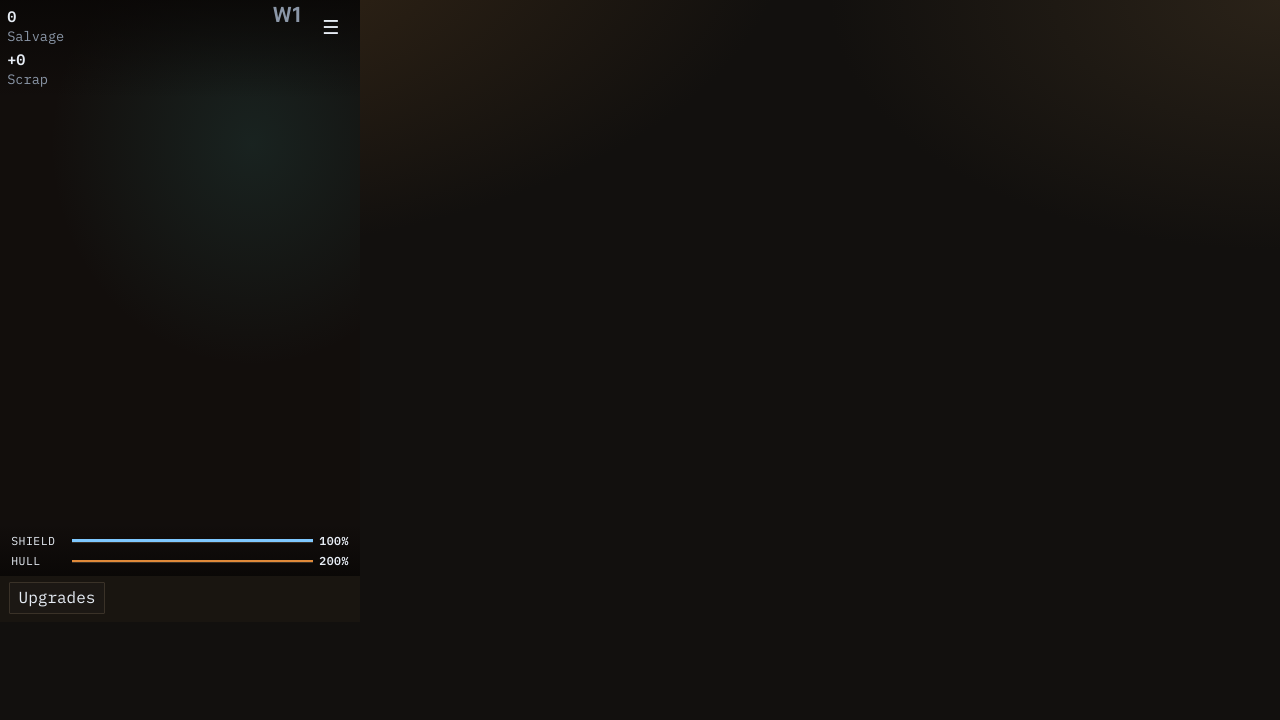
Scenario: Leave Sortie UI › keeps Withdraw disabled during an active Challenge
This screenshot has width=1280, height=720.
Click the button "☰": (331, 27) [309,5,353,49]
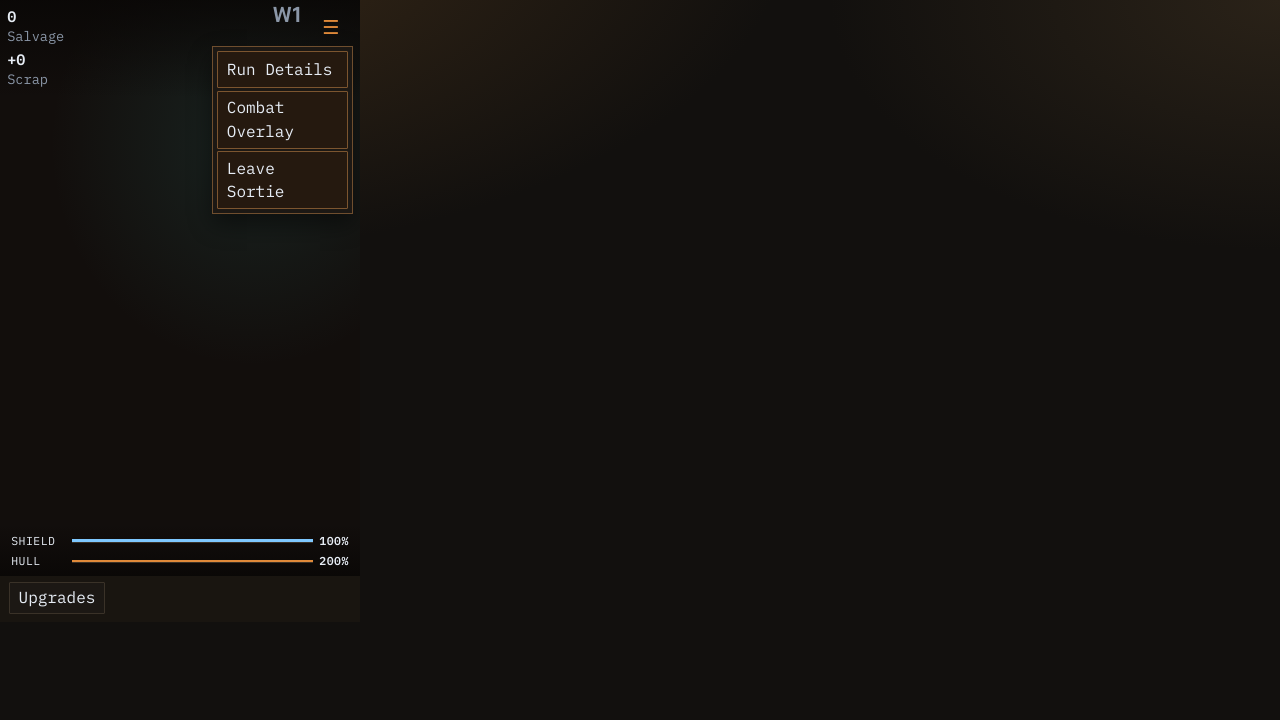
Click the menu item "Leave Sortie": (282, 180) [217,151,348,209]
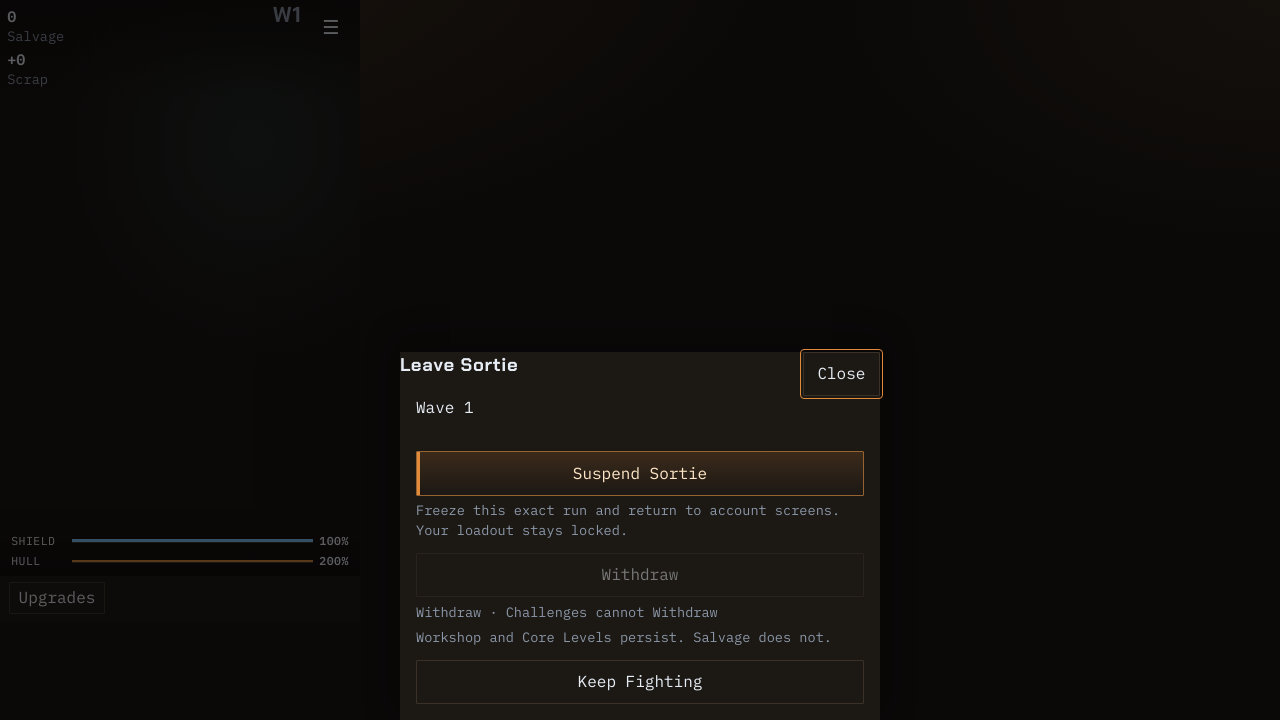
Now the button "Withdraw" is disabled, box [416,553,864,597]
Now the text "Withdraw · Challenges cannot Withdraw" is shown, box [416,603,718,621]
